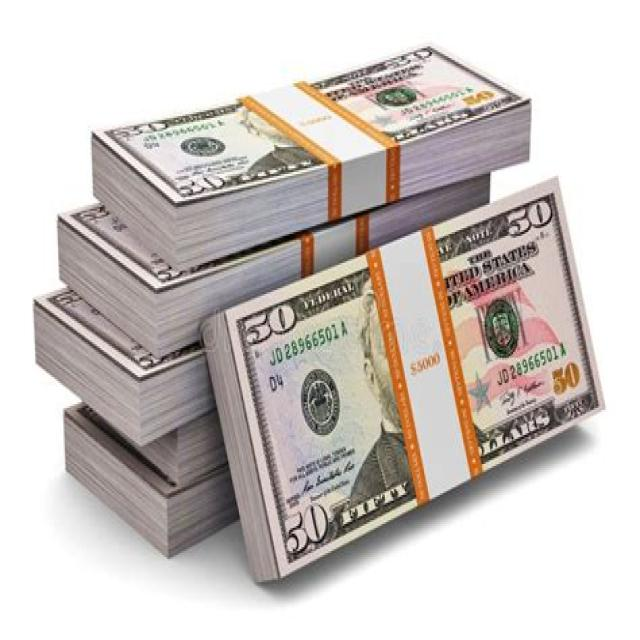Fifty: (224, 175, 607, 581), (91, 40, 531, 204)
